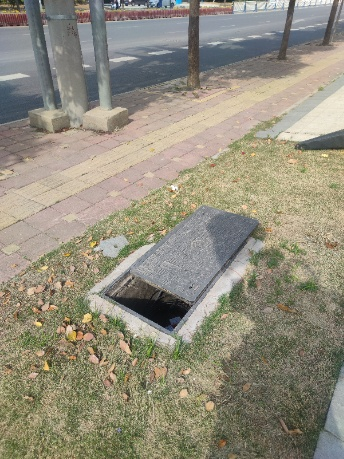uncovered: (90, 206, 265, 343)
